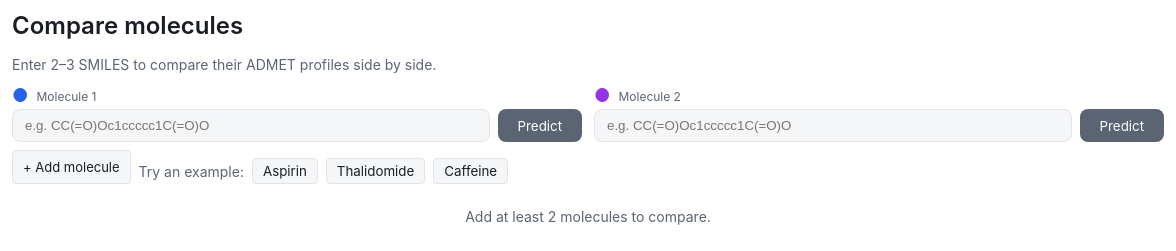
ComparePage › supports adding a 3rd molecule and removing it again
The image size is (1176, 251).
Expected: the number of fields labelled "SMILES string" is 2, [12,109,490,142]; [594,109,1072,142]
Click the button "+ Add molecule".
click(71, 167)  # box [12,150,131,184]
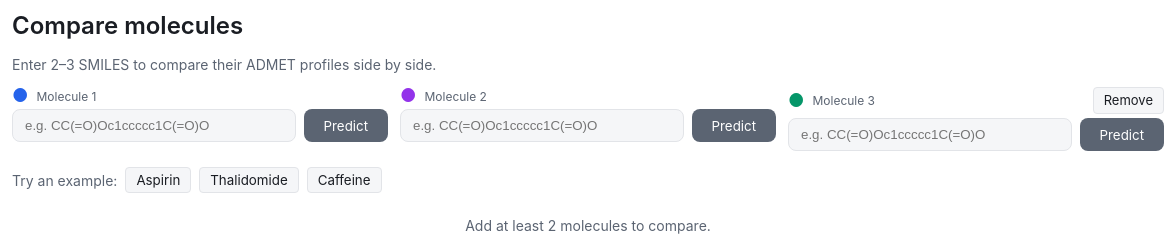
Result: the number of fields labelled "SMILES string" is 3 at [12,109,296,142]; [400,109,684,142]; [788,118,1072,151]
Result: the button "+ Add molecule" is gone
Click the button with aria-label "Remove molecule 3".
click(1128, 101)  # box [1093,87,1164,114]
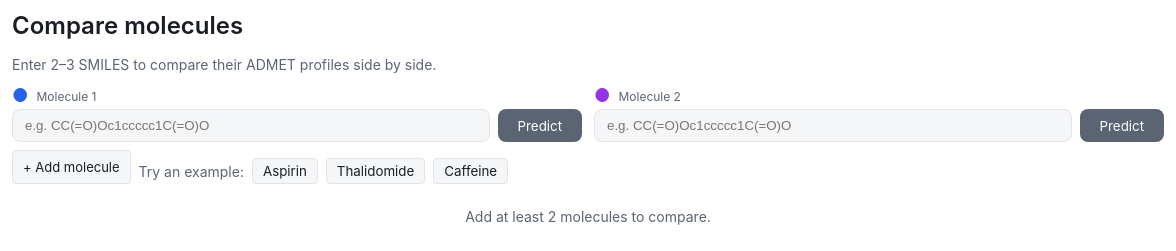
Result: the number of fields labelled "SMILES string" is 2 at [12,109,490,142]; [594,109,1072,142]
